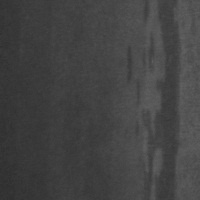inclusion: (127, 0, 189, 195)
